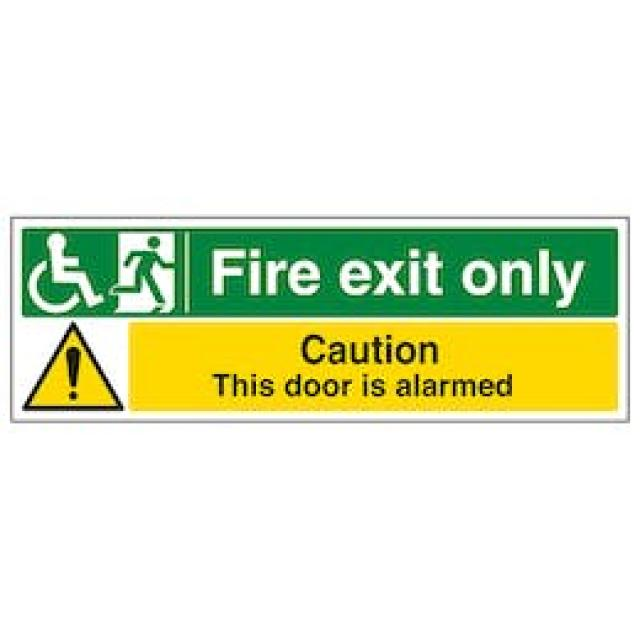exit_sign: (10, 204, 632, 434)
